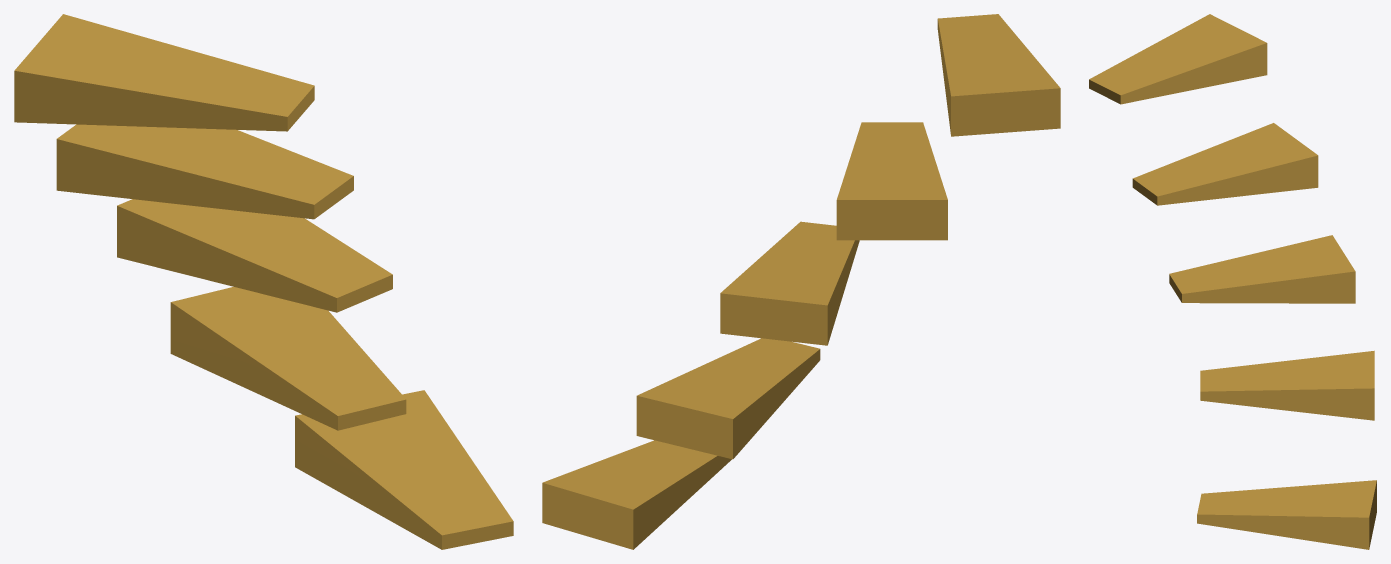
File: marches_grand.FBX
3 views of the same model, side by side, from view 1: azimuth 30°, elevation 25°; view 2: azimuth 150°, elevation 25°; view 3: azimuth 270°, elevation 25° (orthographic). The views are drawn at different scales.
Parts seen in each view (by area): view 1: marchesgrandes; view 2: marchesgrandes; view 3: marchesgrandes.
Part boxes in pixels (left/top/right/bottom): marchesgrandes: left=14, top=14, right=513, bottom=549; marchesgrandes: left=542, top=14, right=1060, bottom=549; marchesgrandes: left=1089, top=14, right=1376, bottom=549.
Size of the model in its own units: 517 by 547 by 384.
